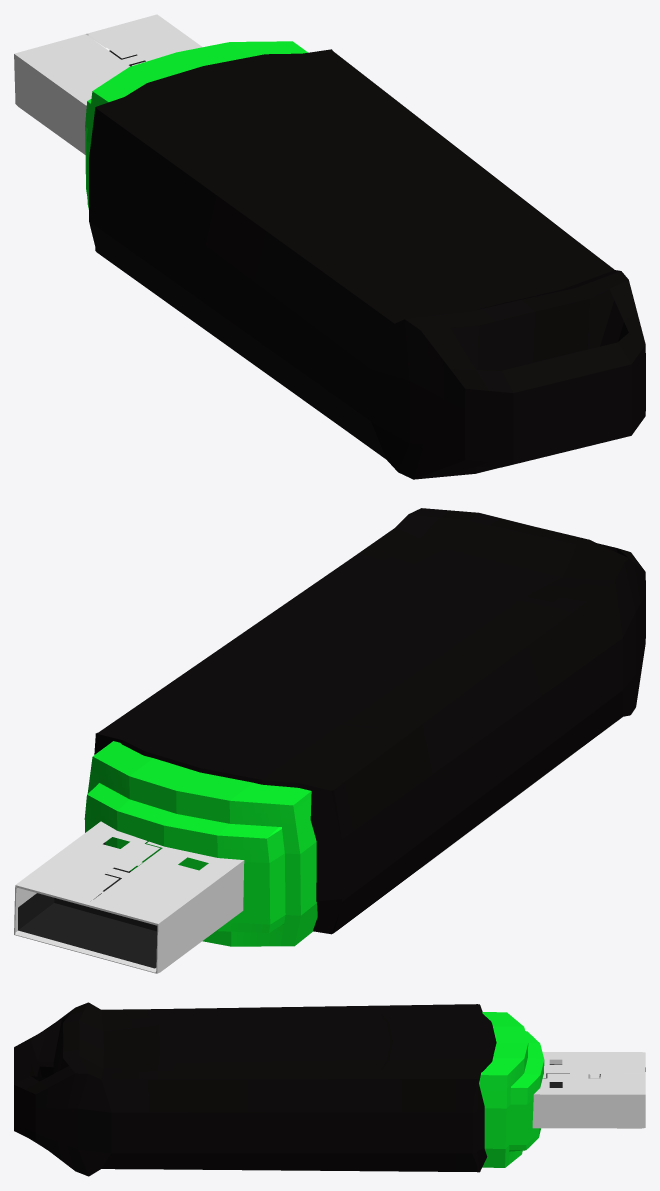
Rendered from flash_disc_usb.glb.
The picture shows the model from 3 angles, top to bottom: view 1: azimuth 30°, elevation 25°; view 2: azimuth 150°, elevation 25°; view 3: azimuth 270°, elevation 25°; orthographic projection. The views are drawn at different scales.
Parts seen in each view (by area): view 1: Usb drive; view 2: Usb drive; view 3: Usb drive.
Part boxes in pixels (x1,y1,x2,y2): Usb drive: (14, 14, 645, 479); Usb drive: (14, 508, 645, 973); Usb drive: (14, 1002, 645, 1176).
Size of the model in its own units: 0.6976 by 0.4118 by 2.32.
